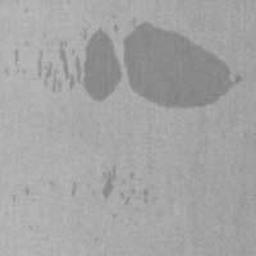Oil spot: (123, 17, 247, 110), (36, 27, 125, 104), (99, 165, 119, 201), (119, 191, 131, 206), (142, 189, 151, 206), (70, 183, 78, 197), (13, 50, 19, 67), (111, 24, 119, 33), (24, 184, 29, 196), (128, 172, 134, 180)
